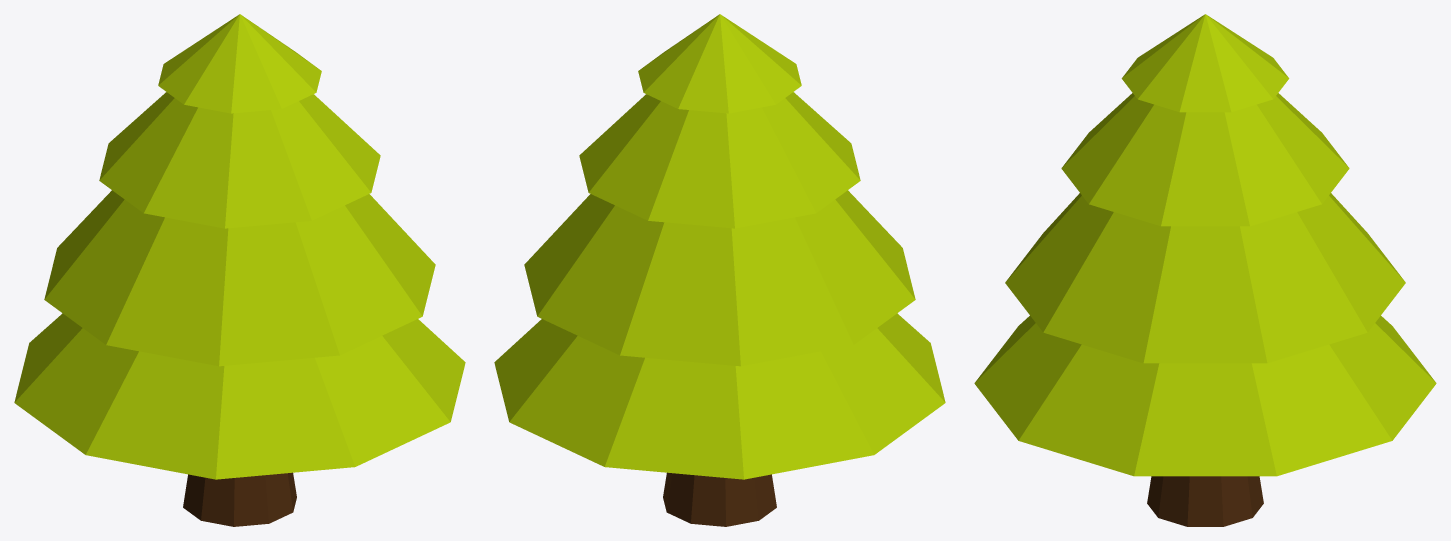
Rendered from Short_Pine_001.fbx.
3 views of the same model, side by side, from view 1: azimuth 30°, elevation 25°; view 2: azimuth 150°, elevation 25°; view 3: azimuth 270°, elevation 25° (orthographic).
Visible parts, largest first — view 1: Short Pine.001; view 2: Short Pine.001; view 3: Short Pine.001.
Part boxes in pixels (<box>): Short Pine.001: <box>14,14,465,526</box>; Short Pine.001: <box>494,14,945,526</box>; Short Pine.001: <box>974,14,1436,526</box>.
Size of the model in its own units: 286 by 351 by 301.
